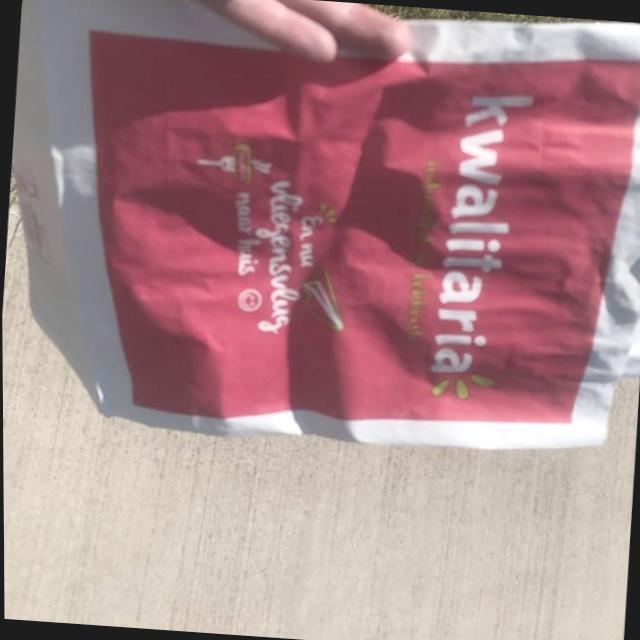Paper: (0, 0, 640, 462)
